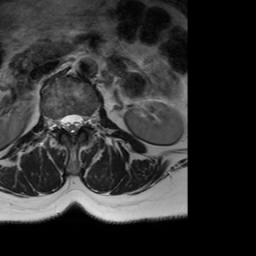CCS_normal: (67, 106, 75, 143)
LFS_normal: (83, 105, 91, 133)
LLS_normal: (75, 106, 84, 135)
RFS_normal: (52, 108, 59, 135)
RLS_normal: (59, 107, 67, 136)
